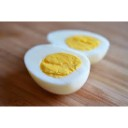begg: (25, 44, 91, 94)
